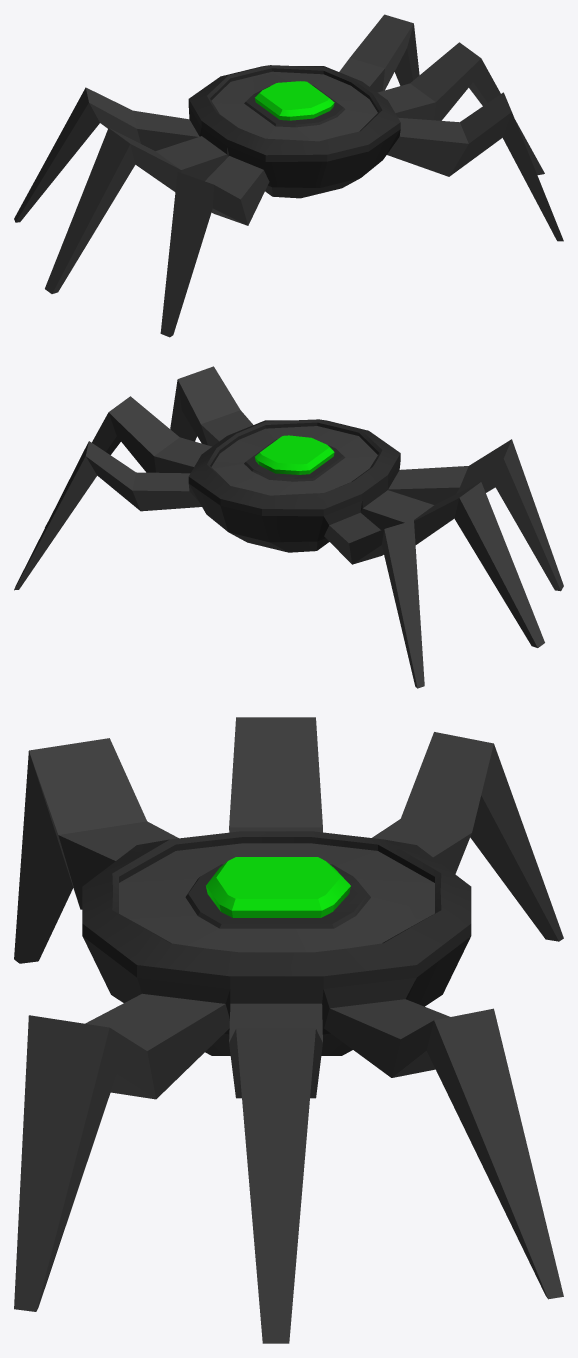
File: Tracker_Bot.fbx
3 renders of one model, top to bottom at view 1: azimuth 30°, elevation 25°; view 2: azimuth 150°, elevation 25°; view 3: azimuth 270°, elevation 25°, orthographic. The views are drawn at different scales.
Parts seen in each view (by area): view 1: pCube1; view 2: pCube1; view 3: pCube1.
Boxes of the visible parts, box(x1,y1,x2,y2) form: pCube1: box(14, 14, 563, 337); pCube1: box(14, 366, 563, 688); pCube1: box(14, 717, 563, 1343).
Size of the model in its own units: 20.04 by 5.58 by 10.64.
